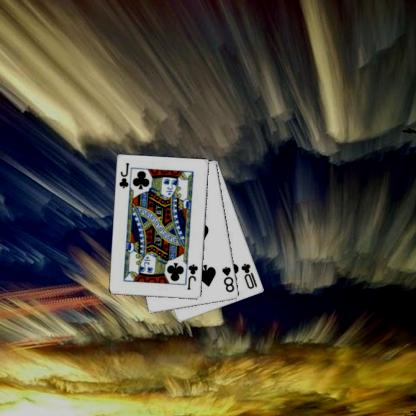10C: (238, 260, 258, 290)
8S: (220, 264, 235, 294)
JC: (184, 262, 200, 291), (117, 160, 131, 190)
